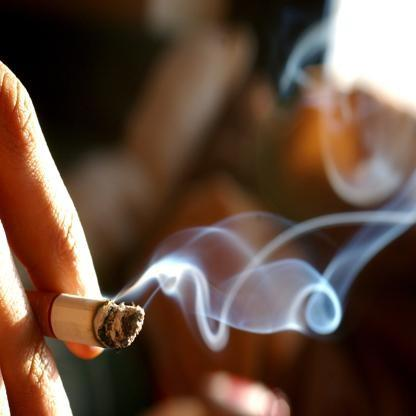trash: (20, 282, 162, 342)
